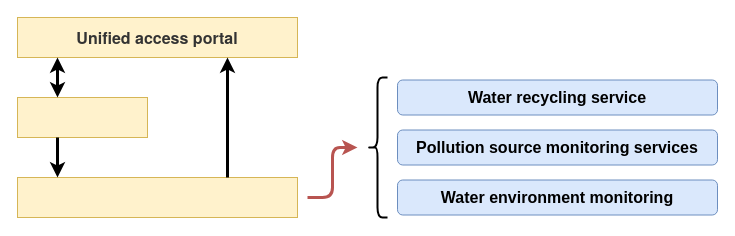
This 735x236 diagram has some shape labels left out. Each missing label, with the centre of its shape:
Multi-type secondary portal: the point at 82,117
Service Association Management System: the point at 157,197
